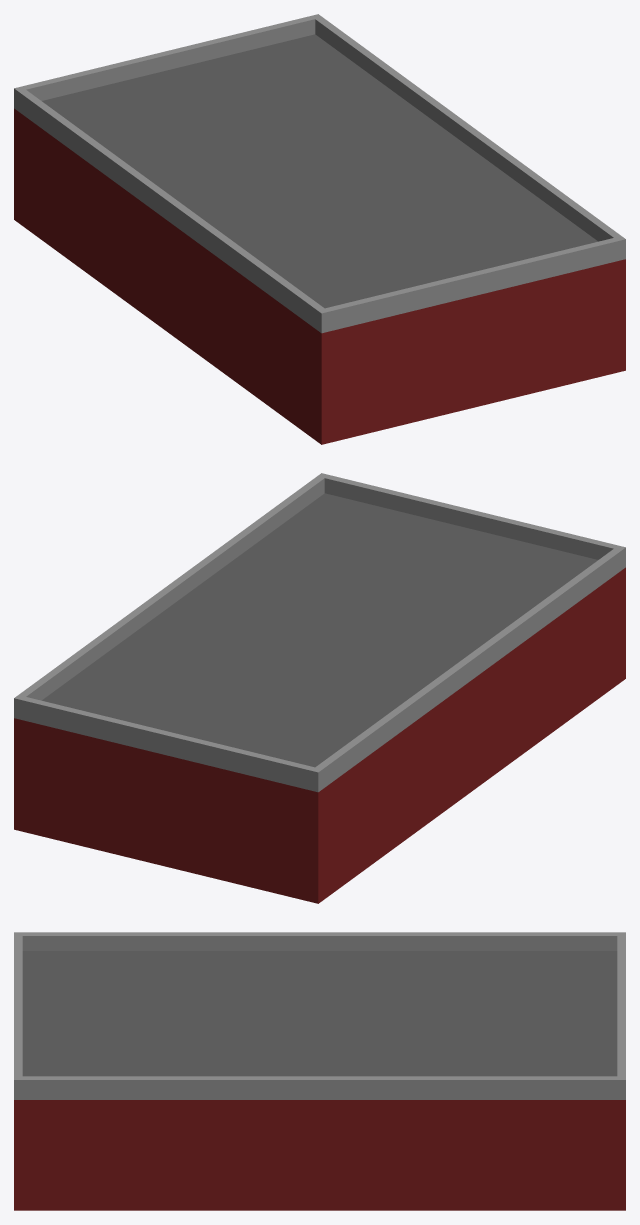
Rendered from Building_20_35_70.FBX.
3 renders of one model, top to bottom at view 1: azimuth 30°, elevation 25°; view 2: azimuth 150°, elevation 25°; view 3: azimuth 270°, elevation 25°, orthographic.
Visible parts, largest first — view 1: BakedBuilding_2014741032853269; view 2: BakedBuilding_2014741032853269; view 3: BakedBuilding_2014741032853269.
Boxes of the visible parts, bbox=[...] form: BakedBuilding_2014741032853269: bbox=[14, 14, 625, 444]; BakedBuilding_2014741032853269: bbox=[14, 473, 625, 903]; BakedBuilding_2014741032853269: bbox=[14, 932, 625, 1210].
Bounding box in the file's own units: 2000 × 825 × 3500.
